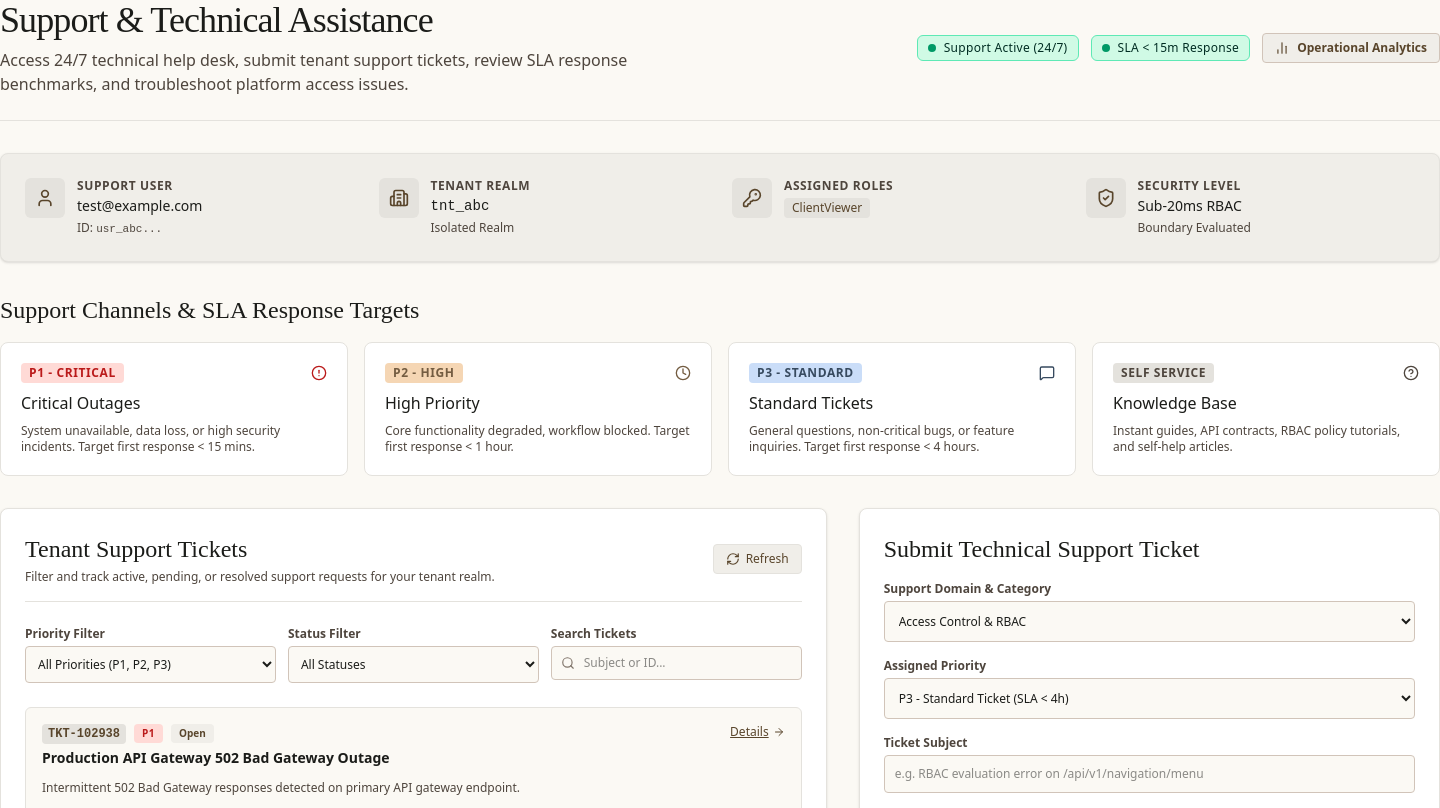
Scenario: SupportPage Component › displays form error when message is too short
Check: the text "test@example.com" is shown, box [77,196,202,216]
Type "Short" into the field labelled "Ticket Subject". click: (1149,774)
box: [884,755,1415,793]
(page scrolled)
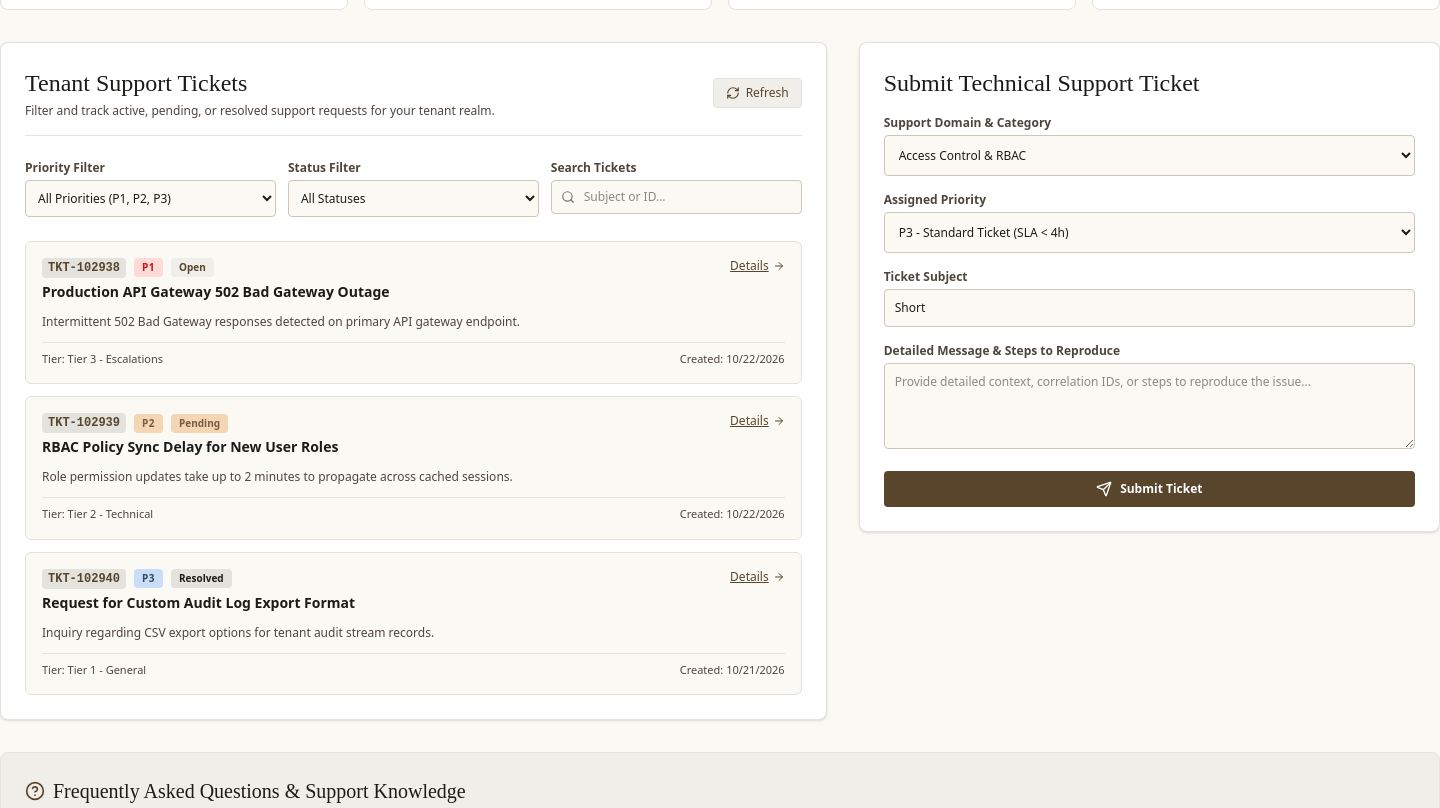
Replace the text in the text box labelled "Detailed Message & Steps to Reproduce" with "Short". click: (1149,406)
box: [884,363,1415,449]
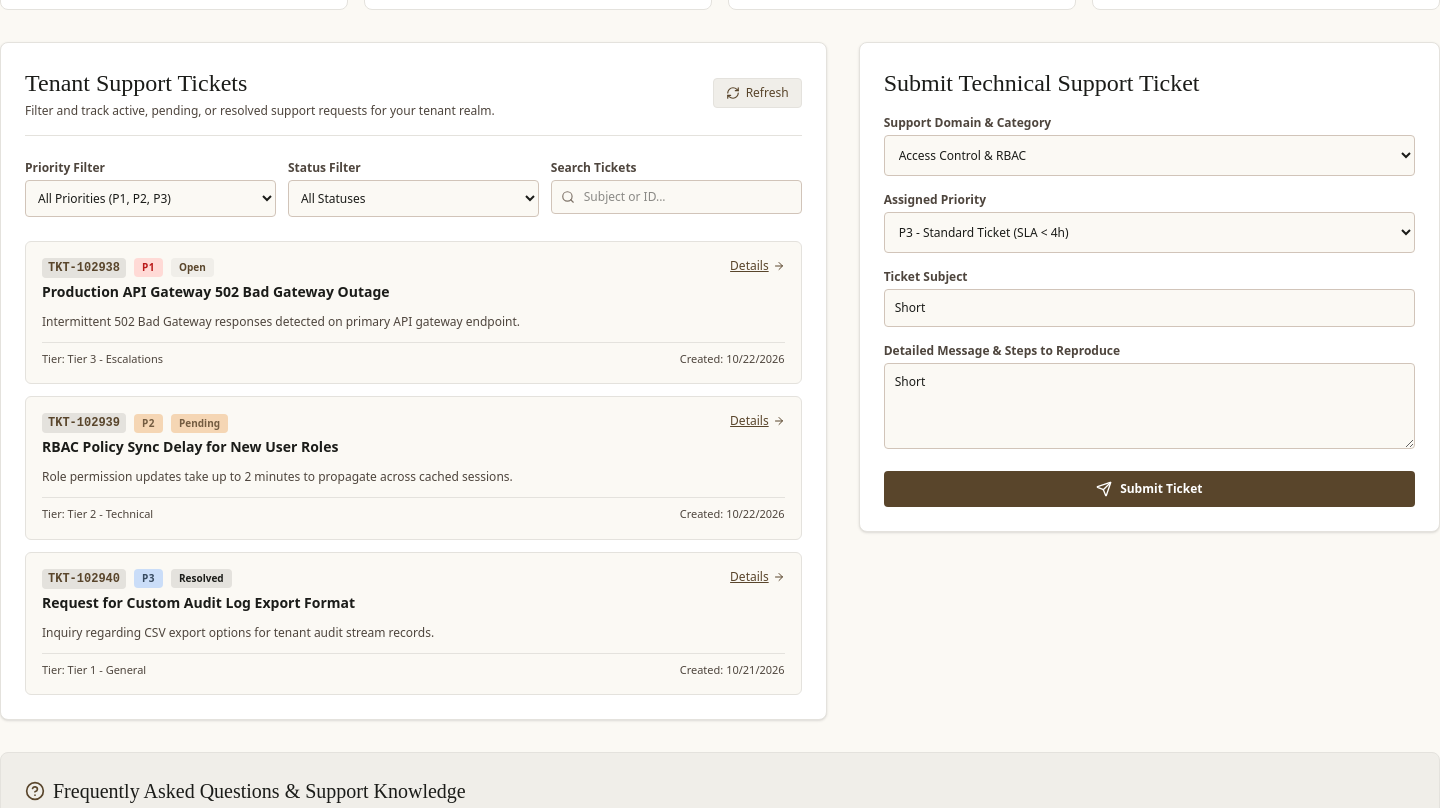
Click the button "Submit Ticket". click: (1149,489)
box: [884,471,1415,507]
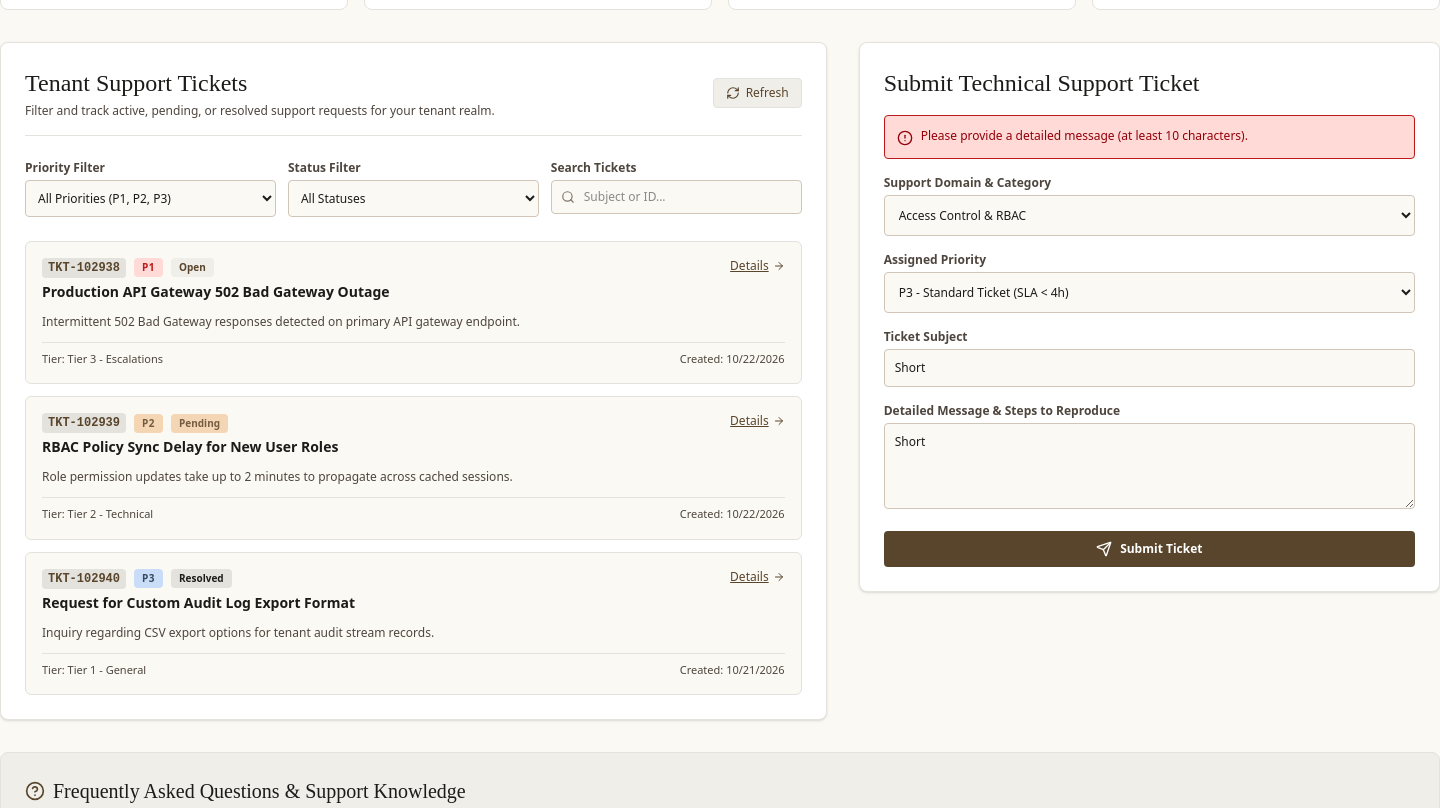
Check: the text "Please provide a detailed message (at least 10 characters)." is shown, box [921,128,1248,144]
